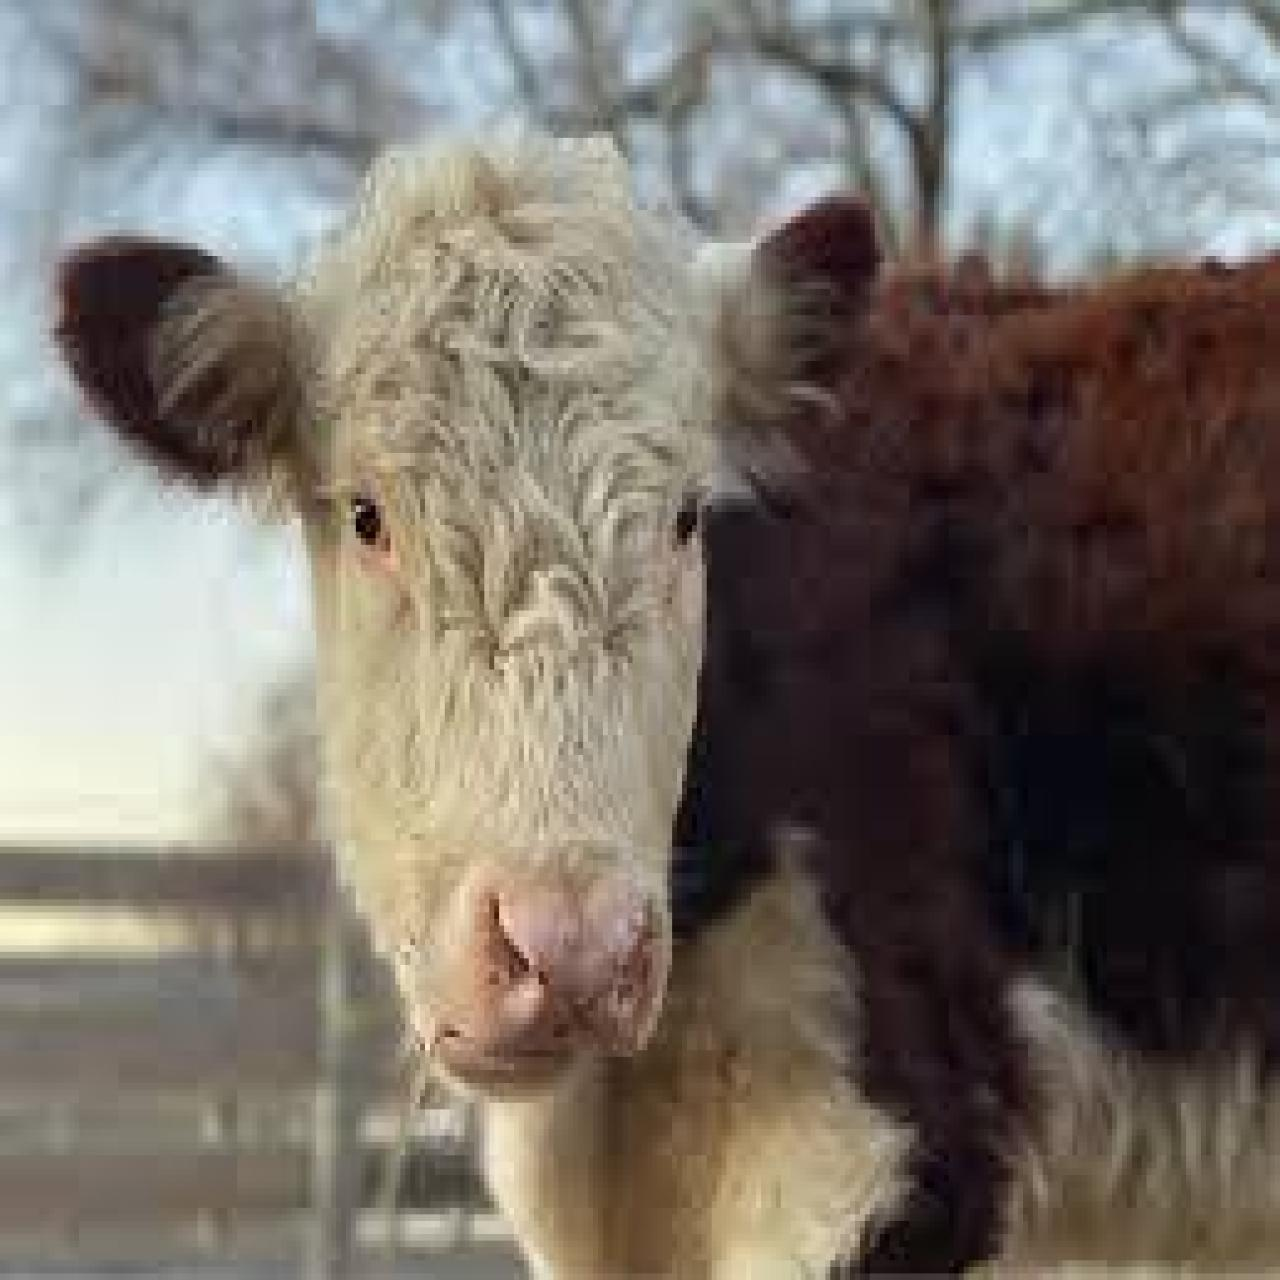cow: (69, 164, 1280, 1280)
